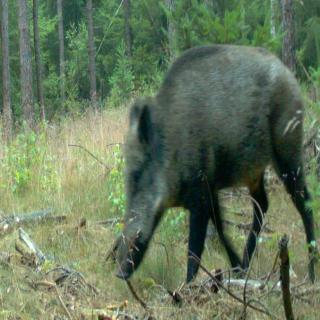Pig: (104, 42, 320, 282)
